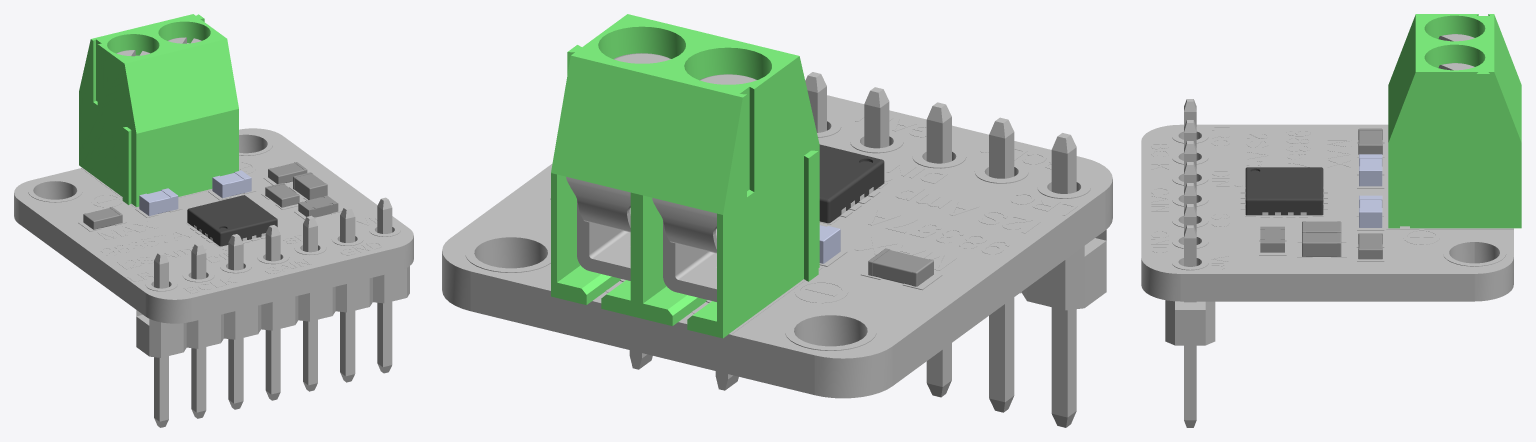
Rendered from MAX98357A_3W_I2S_AMP v27.glb.
3 renders of one model, left to right at view 1: azimuth 30°, elevation 25°; view 2: azimuth 150°, elevation 25°; view 3: azimuth 270°, elevation 25°, orthographic. The views are drawn at different scales.
Visible parts, largest first — view 1: empty_2, empty_81, empty_126, empty_104, empty_127, empty_129, empty_128, empty_132, empty_131, empty_125, empty_130, empty_6 (+6 smaller); view 2: empty_2, empty_81, empty_125, empty_127, empty_126, empty_104, empty_84, empty_80, empty_6, empty_3, empty_128, empty_82 (+5 smaller); view 3: empty_2, empty_81, empty_104, empty_126, empty_132, empty_3, empty_105, empty_106, empty_116, empty_113.
Boxes of the visible parts, <box> form: empty_2: <box>14,128,413,323</box>; empty_81: <box>79,14,238,207</box>; empty_126: <box>136,266,409,357</box>; empty_104: <box>187,195,277,246</box>; empty_127: <box>191,243,206,418</box>; empty_129: <box>265,225,280,400</box>; empty_128: <box>228,234,243,409</box>; empty_132: <box>377,197,392,373</box>; empty_131: <box>340,206,355,382</box>; empty_125: <box>154,252,168,427</box>; empty_130: <box>303,215,317,391</box>; empty_6: <box>28,179,82,202</box>; empty_2: <box>442,95,1112,398</box>; empty_81: <box>551,14,819,338</box>; empty_125: <box>1051,133,1076,427</box>; empty_127: <box>989,117,1014,412</box>; empty_126: <box>1020,229,1106,310</box>; empty_104: <box>819,144,884,223</box>; empty_84: <box>663,220,738,390</box>; empty_80: <box>577,200,652,369</box>; empty_6: <box>785,311,876,350</box>; empty_3: <box>465,233,550,272</box>; empty_128: <box>926,102,951,397</box>; empty_82: <box>566,176,630,232</box>; empty_2: <box>1141,124,1513,301</box>; empty_81: <box>1388,14,1521,228</box>; empty_104: <box>1245,167,1323,215</box>; empty_126: <box>1165,300,1215,345</box>; empty_132: <box>1184,225,1196,427</box>; empty_3: <box>1443,239,1506,266</box>; empty_105: <box>1359,154,1382,186</box>; empty_106: <box>1359,195,1382,227</box>; empty_116: <box>1306,233,1337,256</box>; empty_113: <box>1306,221,1337,232</box>.
Bounding box in the file's own units: 0.018 × 0.018 × 0.0194.
